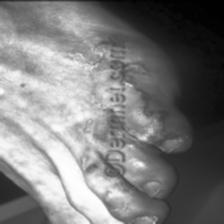Toxin: (131, 63, 173, 143), (96, 111, 110, 146), (94, 34, 136, 44), (81, 157, 101, 177)
